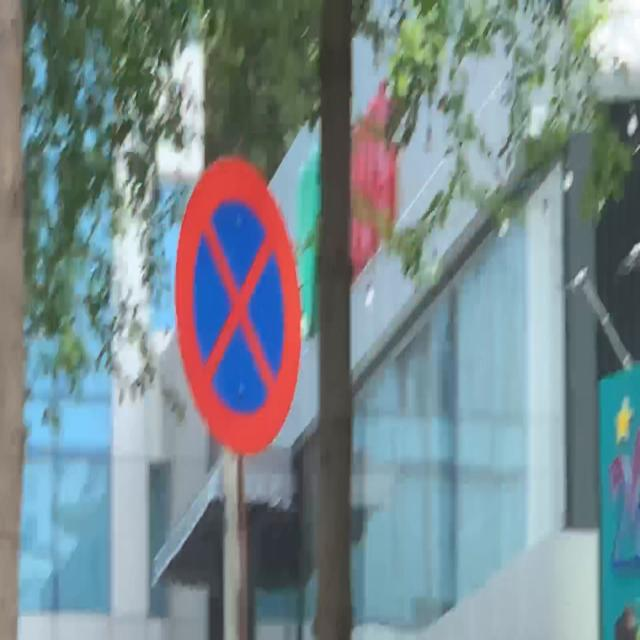Cam dung va do: (167, 148, 308, 473)
